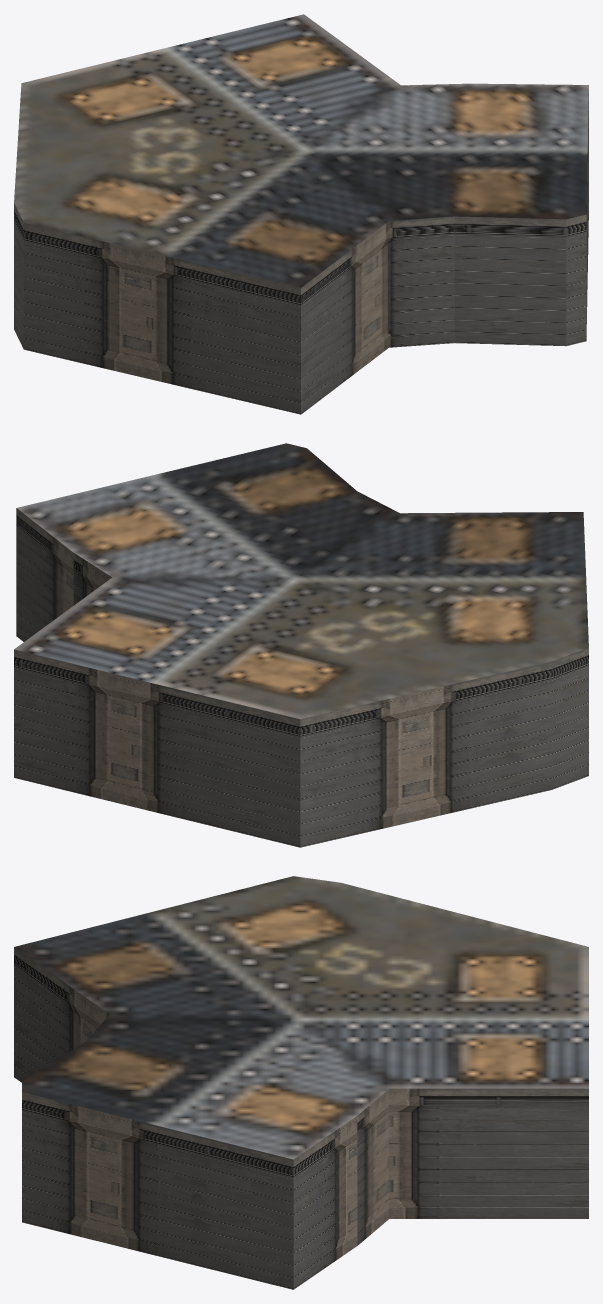
File: hangar_heavy_a_53.glb
The picture shows the model from 3 angles, top to bottom: view 1: azimuth 30°, elevation 25°; view 2: azimuth 150°, elevation 25°; view 3: azimuth 270°, elevation 25°; orthographic projection. The views are drawn at different scales.
Parts seen in each view (by area): view 1: buildings/saxarba/hangar_heavy/hangar_heavy_a_53; view 2: buildings/saxarba/hangar_heavy/hangar_heavy_a_53; view 3: buildings/saxarba/hangar_heavy/hangar_heavy_a_53.
Boxes of the visible parts, <box> form: buildings/saxarba/hangar_heavy/hangar_heavy_a_53: <box>14,14,588,414</box>; buildings/saxarba/hangar_heavy/hangar_heavy_a_53: <box>14,443,588,847</box>; buildings/saxarba/hangar_heavy/hangar_heavy_a_53: <box>14,876,588,1289</box>.
Bounding box in the file's own units: 84 × 18 × 72.
